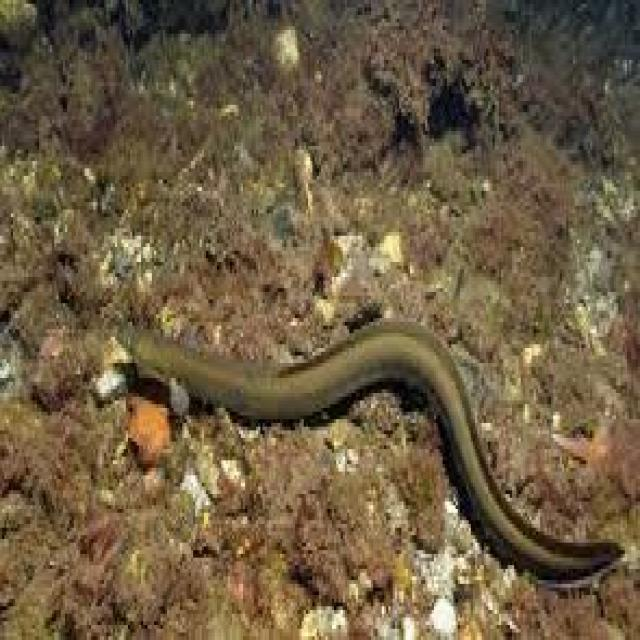Freshwater-Eel: (92, 177, 640, 616)
